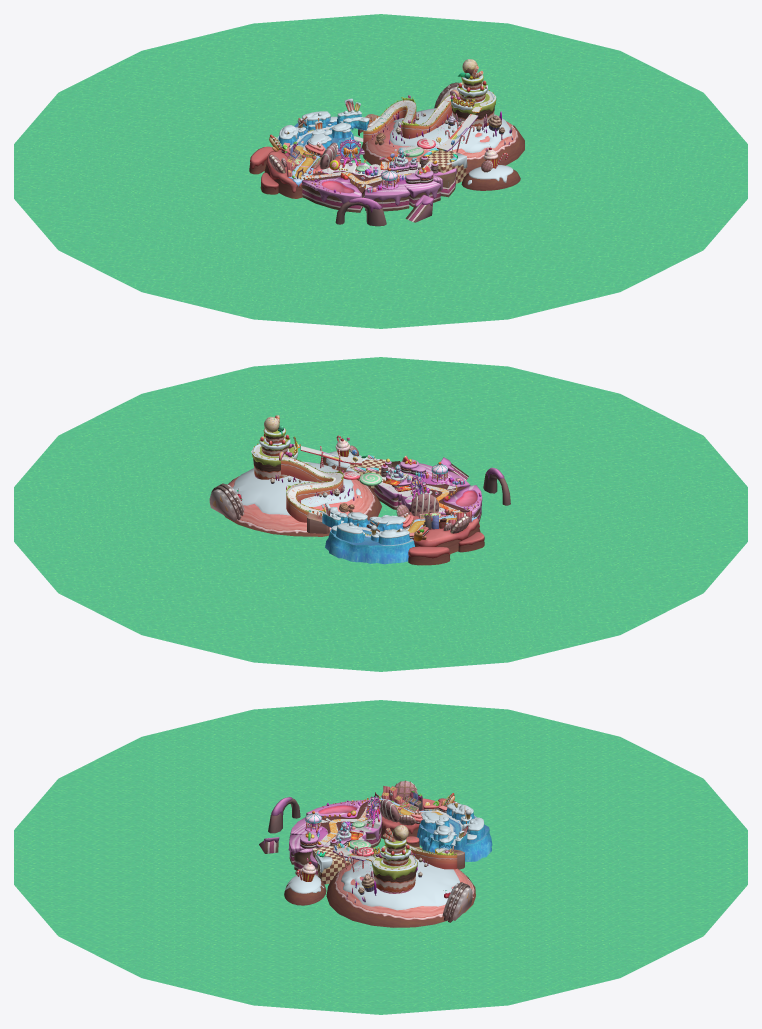
File: map.fbx
The picture shows the model from 3 angles, top to bottom: view 1: azimuth 30°, elevation 25°; view 2: azimuth 150°, elevation 25°; view 3: azimuth 270°, elevation 25°; orthographic projection.
Visible parts, largest first — view 1: tgsd_12, tgsd_06, tgsd_03, tgsd_01, tgsd_05, tgsd_08, raod_tgsd_001, tgsd_04, tgsd_11, tgsd_10, tgsd_09; view 2: tgsd_12, tgsd_06, tgsd_05, tgsd_01, tgsd_03, tgsd_08, raod_tgsd_001, tgsd_04, tgsd_10, tgsd_11, tgsd_09; view 3: tgsd_12, tgsd_06, tgsd_05, tgsd_01, tgsd_03, tgsd_10, tgsd_11, tgsd_08, raod_tgsd_001, tgsd_04.
Boxes of the visible parts, x1,y1,x2,y2 form: tgsd_12: (14, 14, 747, 328); tgsd_06: (278, 72, 513, 184); tgsd_03: (300, 116, 456, 212); tgsd_01: (281, 59, 496, 226); tgsd_05: (366, 66, 512, 157); tgsd_08: (277, 101, 455, 212); raod_tgsd_001: (289, 92, 496, 189); tgsd_04: (250, 129, 349, 192); tgsd_11: (329, 138, 508, 183); tgsd_10: (268, 141, 492, 176); tgsd_09: (355, 146, 457, 192); tgsd_12: (14, 357, 747, 671); tgsd_06: (233, 428, 414, 564); tgsd_05: (209, 415, 385, 521); tgsd_01: (252, 416, 510, 538); tgsd_03: (312, 455, 504, 526); tgsd_08: (281, 460, 481, 545); raod_tgsd_001: (251, 444, 465, 535); tgsd_04: (365, 509, 484, 558); tgsd_10: (349, 445, 471, 533); tgsd_11: (335, 435, 450, 501); tgsd_09: (354, 455, 464, 493); tgsd_12: (14, 700, 747, 1014); tgsd_06: (285, 802, 492, 910); tgsd_05: (308, 828, 472, 922); tgsd_01: (259, 798, 464, 879); tgsd_03: (264, 797, 452, 868); tgsd_10: (295, 780, 422, 875); tgsd_11: (297, 796, 380, 884); tgsd_08: (289, 815, 489, 875); raod_tgsd_001: (312, 802, 462, 871); tgsd_04: (374, 792, 459, 843).
Size of the model in its own units: 178443 by 181196 by 23864.
Materials: 14 (13 with a texture image).
